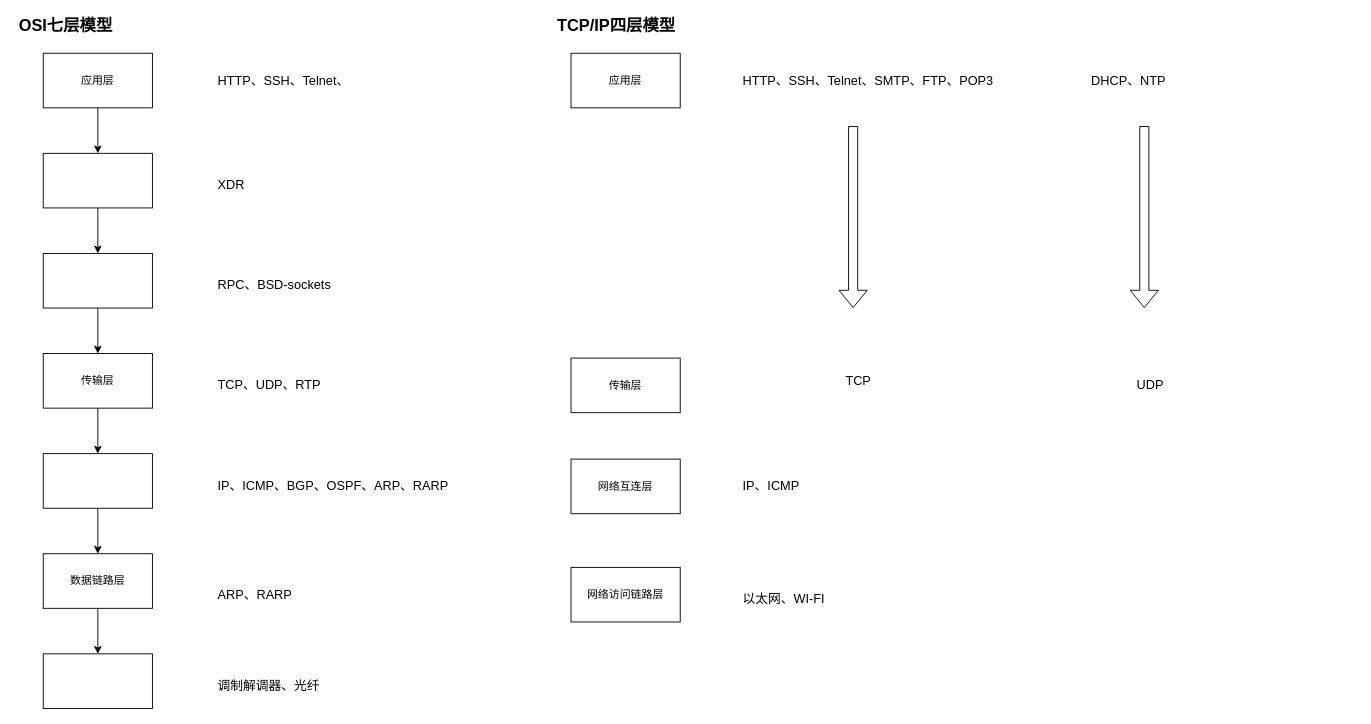
The diagram is 1371 pixels wide and 724 high, and some of its shapes have lost their labels. The box of each missing label's shape, as (x1, y1, x2, y2) in pixels:
会话层: (42, 253, 152, 308)
物理层: (42, 653, 152, 708)
网络层: (42, 453, 152, 508)
表示层: (42, 152, 152, 208)
